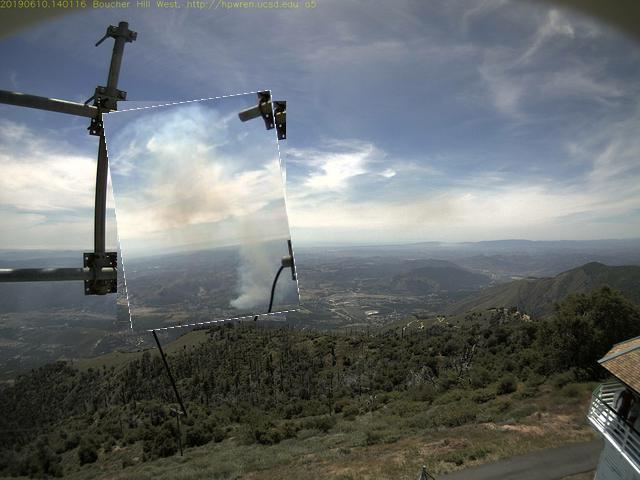smoke: (111, 97, 295, 328)
